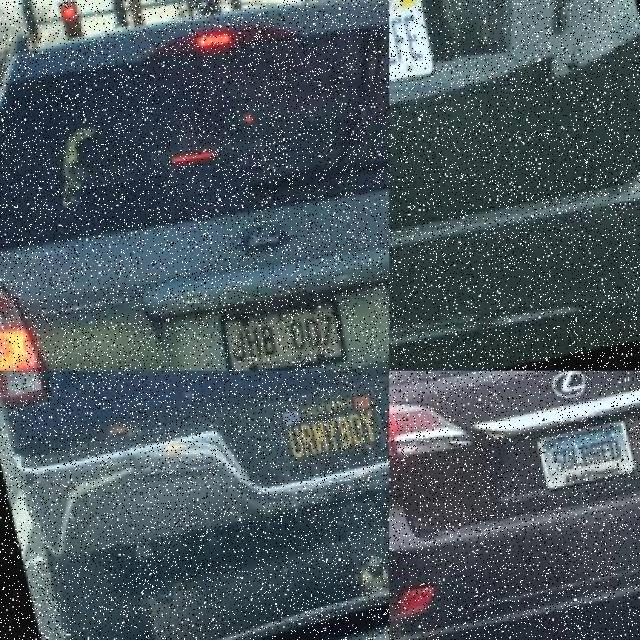licenseplate: (267, 385, 382, 476), (210, 299, 340, 371), (531, 424, 631, 492), (390, 0, 452, 102)
